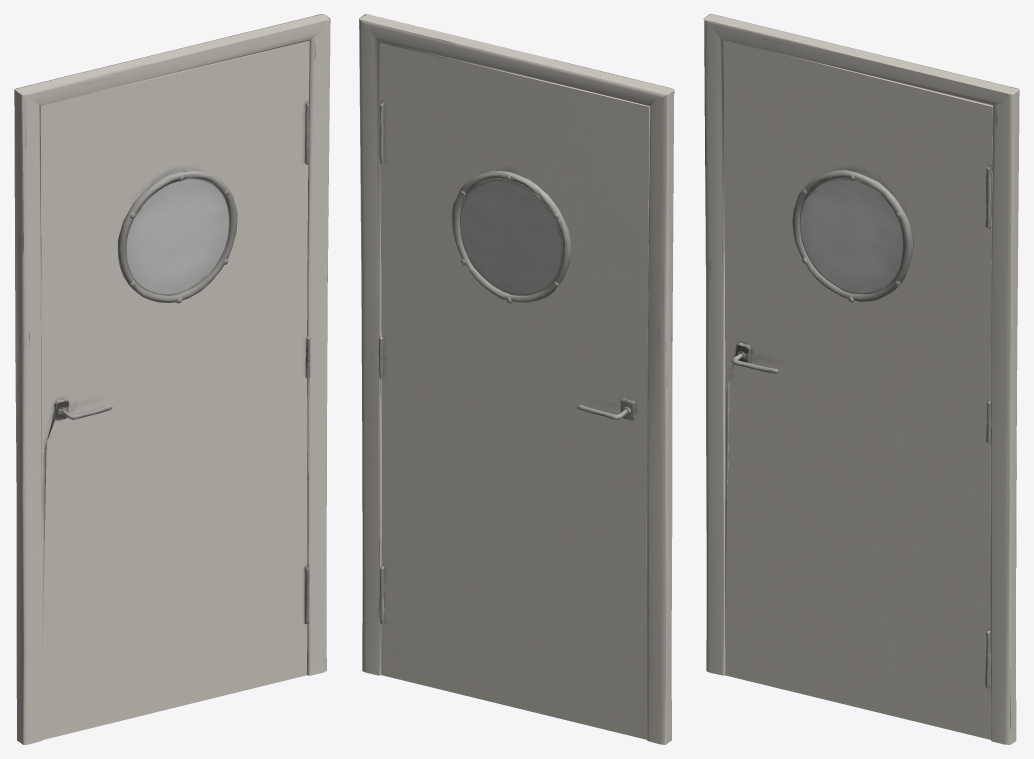
The model's file is Meshy_AI_hospital_room_door_wi_0904014956_texture.glb.
The picture shows the model from 3 angles, left to right: view 1: azimuth 30°, elevation 25°; view 2: azimuth 150°, elevation 25°; view 3: azimuth 330°, elevation 25°; orthographic projection.
Parts seen in each view (by area): view 1: mesh_node; view 2: mesh_node; view 3: mesh_node.
Boxes of the visible parts, x1=… form: mesh_node: x1=14, y1=14, x2=330, y2=744; mesh_node: x1=359, y1=14, x2=674, y2=744; mesh_node: x1=703, y1=14, x2=1019, y2=744.
Bounding box in the file's own units: 0.498 × 1 × 0.0842.
1 material, 1 textured.
